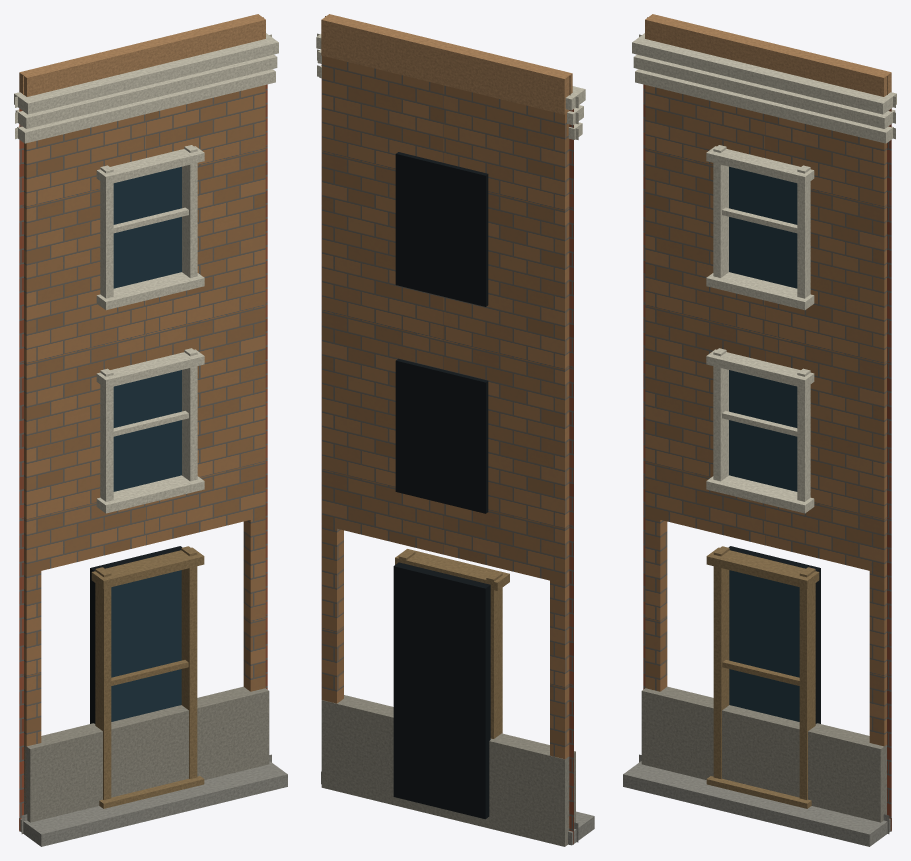
The model's file is RUNDWN17_lod2.glb.
The picture shows the model from 3 angles, left to right: view 1: azimuth 30°, elevation 25°; view 2: azimuth 150°, elevation 25°; view 3: azimuth 330°, elevation 25°; orthographic projection.
Visible parts, largest first — view 1: RUNDWN17_FRONT_LOD2; view 2: RUNDWN17_FRONT_LOD2; view 3: RUNDWN17_FRONT_LOD2.
Part boxes in pixels (x1,y1,x2,y2): RUNDWN17_FRONT_LOD2: [14, 14, 287, 846]; RUNDWN17_FRONT_LOD2: [316, 14, 594, 846]; RUNDWN17_FRONT_LOD2: [623, 14, 896, 846].
Size of the model in its own units: 3.44 by 9.66 by 0.68.
10 materials, 8 textured.
